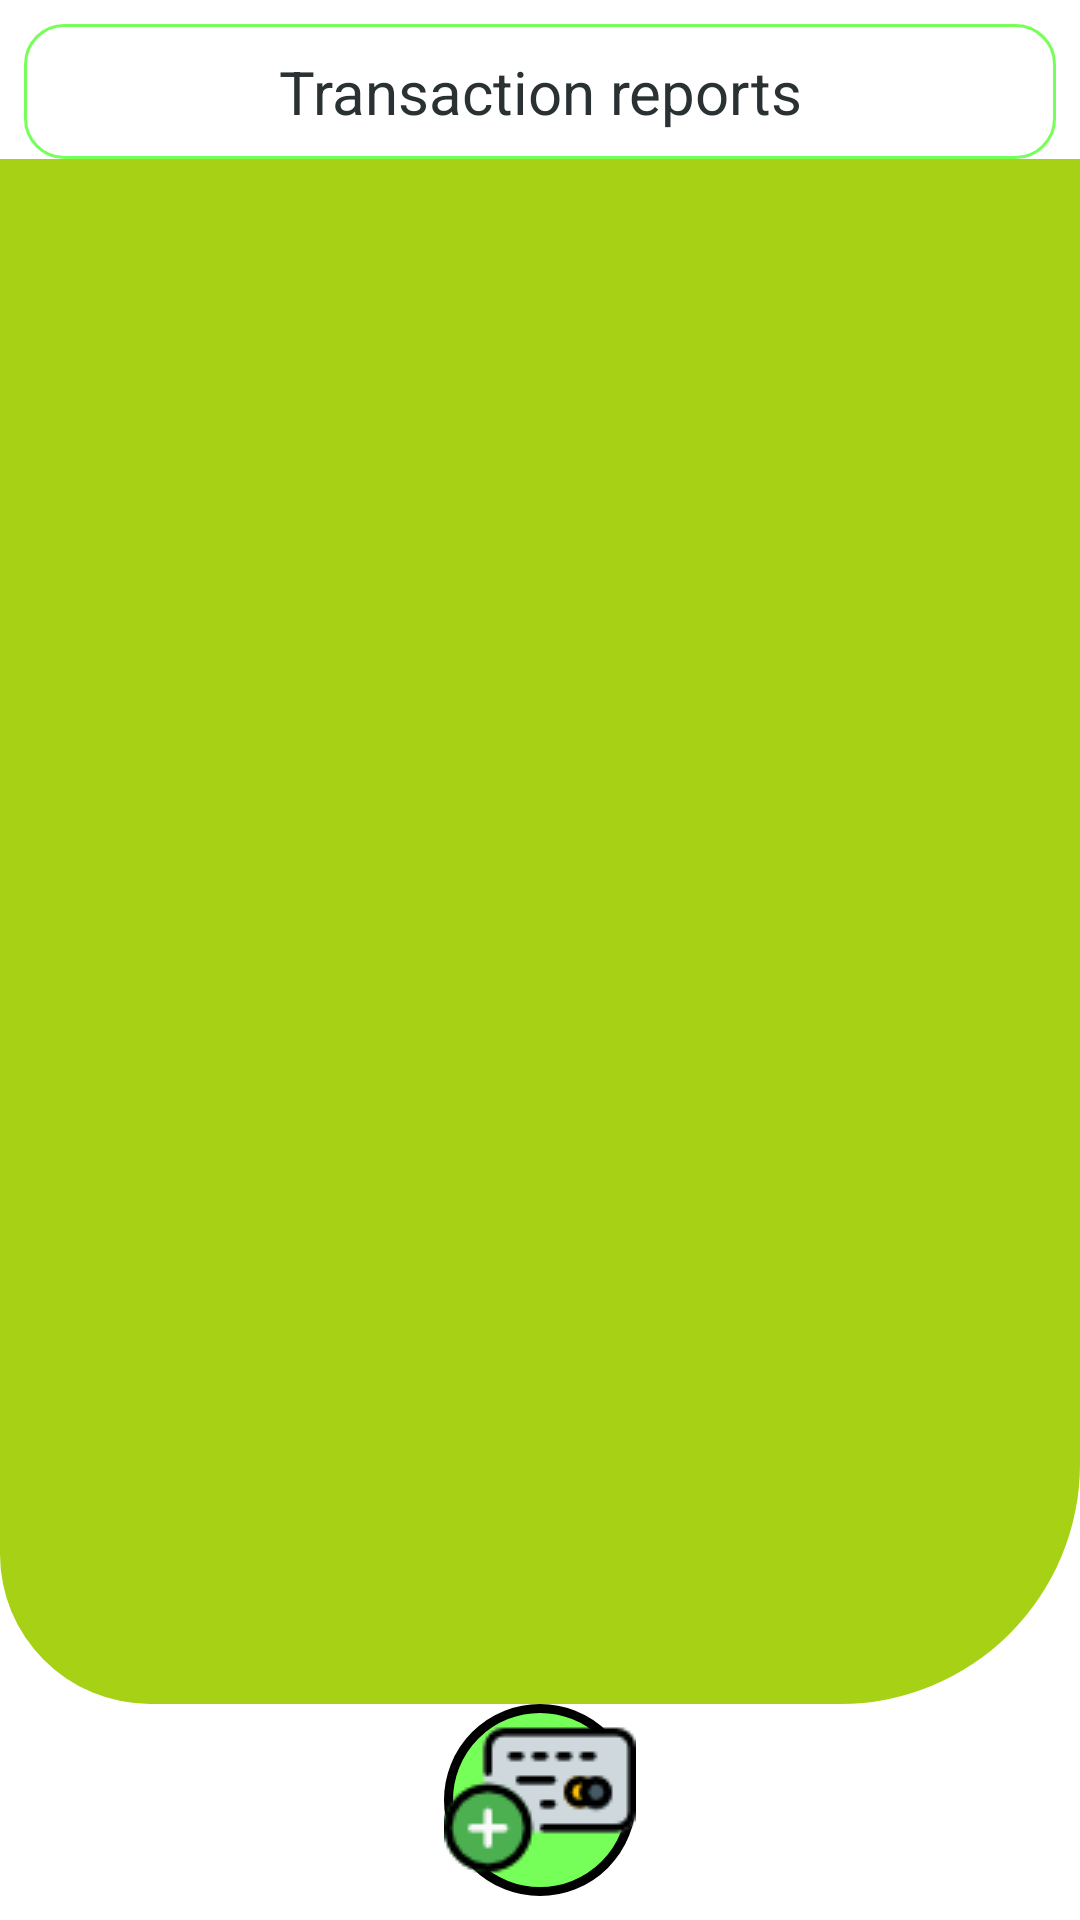

Named icons in this screenshot (1080×1920) and their centers, point (x, y):
credit card: point (540, 1800)
